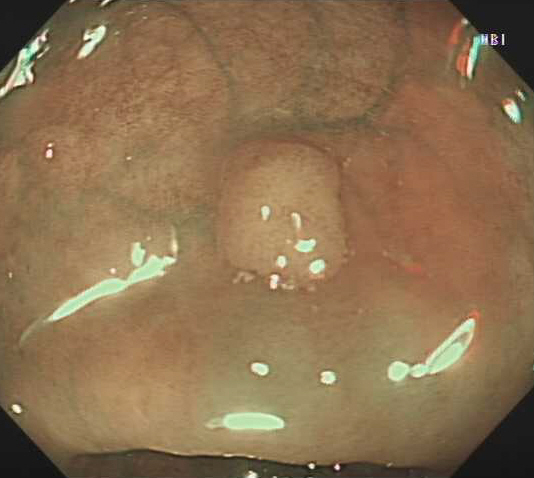others: (211, 134, 352, 291)
